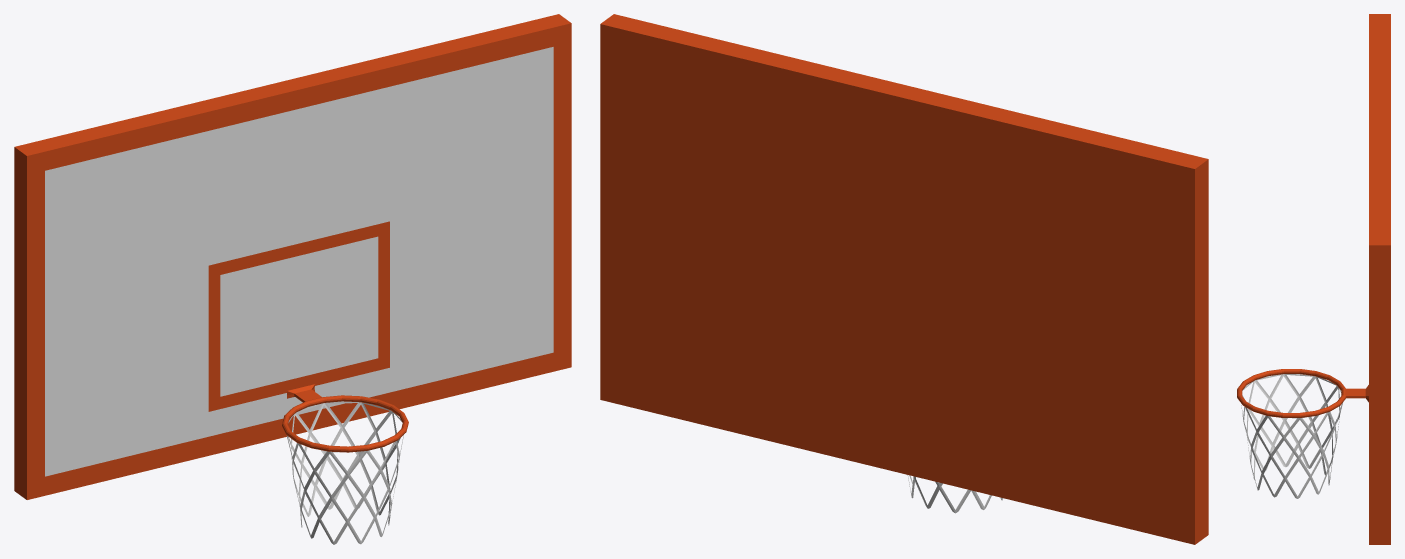
File: Basketball Panel.fbx
3 renders of one model, left to right at view 1: azimuth 30°, elevation 25°; view 2: azimuth 150°, elevation 25°; view 3: azimuth 270°, elevation 25°, orthographic. The views are drawn at different scales.
Visible parts, largest first — view 1: Panel, Net, Hoop; view 2: Panel; view 3: Panel, Net, Hoop.
Boxes of the visible parts, x1,y1,x2,y2 form: Panel: (14,14,571,499); Net: (286,401,403,544); Hoop: (282,384,408,452); Panel: (600,14,1208,544); Panel: (1369,14,1390,544); Net: (1241,374,1342,498); Hoop: (1237,369,1368,417).
Size of the model in its own units: 737 by 524 by 207.
